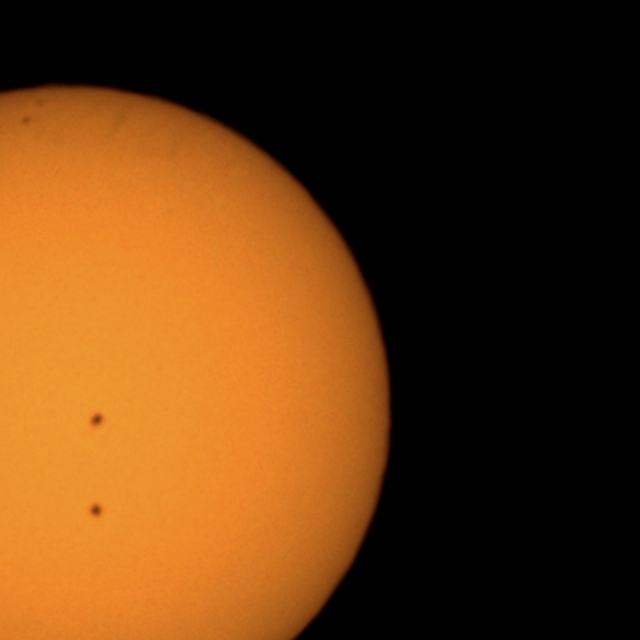sunspot: (87, 500, 106, 520), (87, 411, 106, 430), (19, 114, 33, 129)
